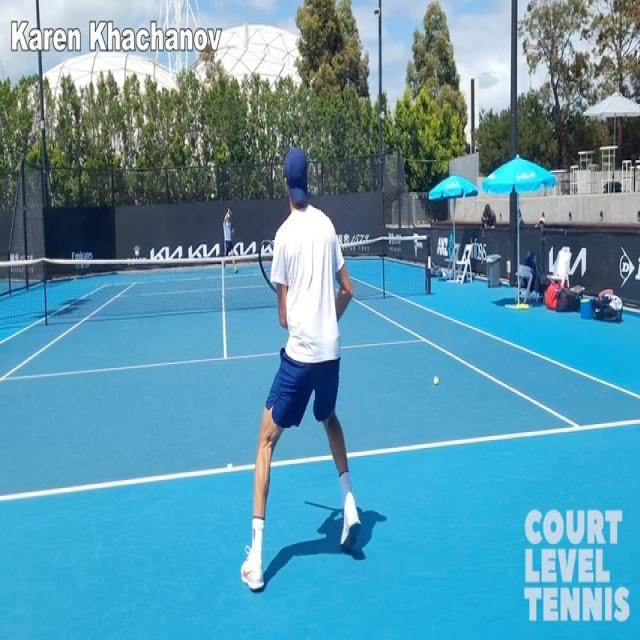ready-position: (241, 142, 369, 589)
